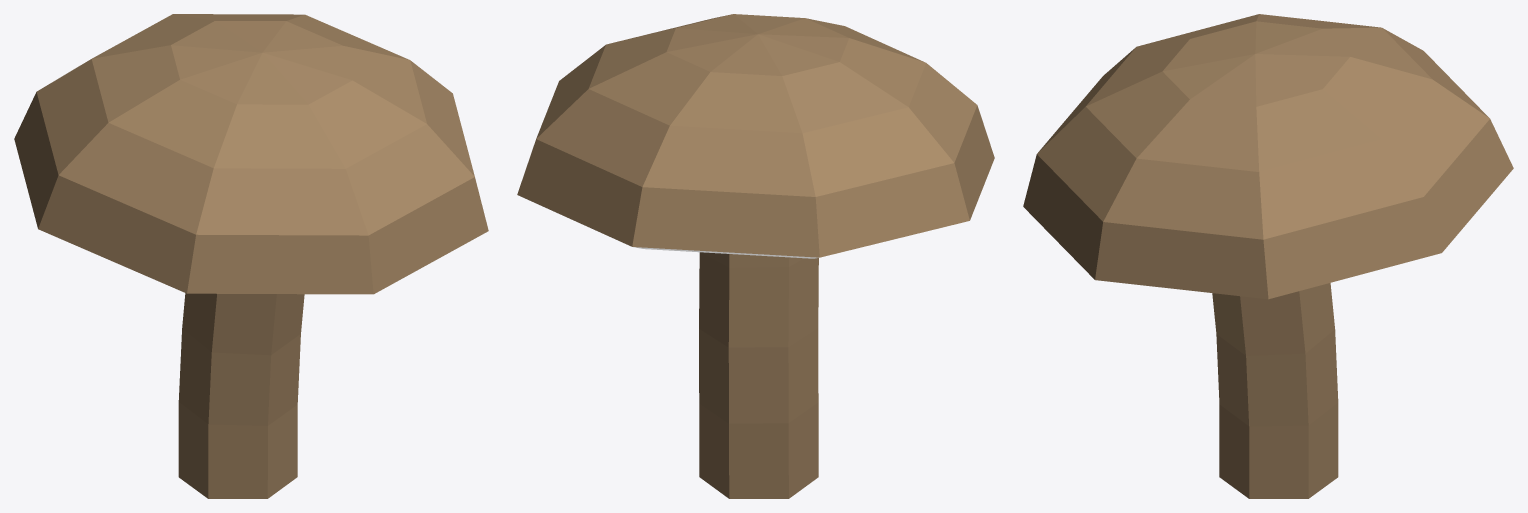
The model's file is Mushroom_Brown_2.fbx.
3 renders of one model, left to right at view 1: azimuth 30°, elevation 25°; view 2: azimuth 150°, elevation 25°; view 3: azimuth 270°, elevation 25°, orthographic.
Visible parts, largest first — view 1: Cylinder.001; view 2: Cylinder.001; view 3: Cylinder.001.
Part boxes in pixels (bbox=[...]): Cylinder.001: bbox=[14, 14, 488, 498]; Cylinder.001: bbox=[517, 14, 994, 498]; Cylinder.001: bbox=[1023, 14, 1513, 498].
Size of the model in its own units: 15.2 by 14.63 by 15.15.
